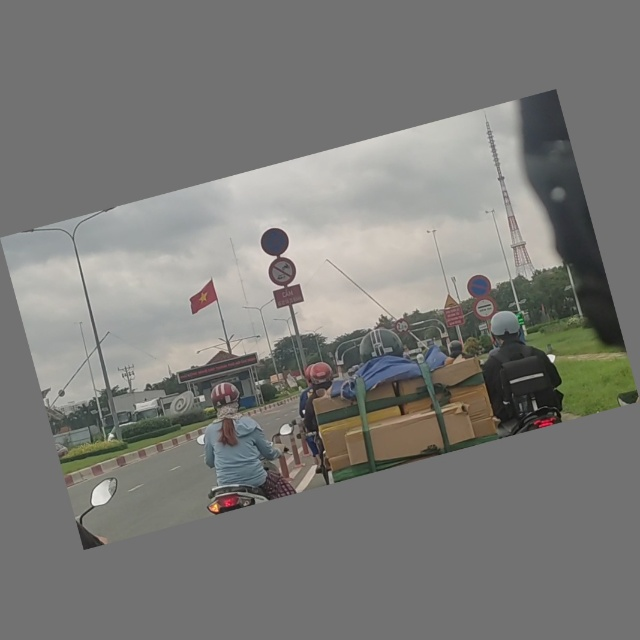P.111: (266, 255, 299, 289)
P.117*: (394, 318, 411, 336)
P.129: (471, 295, 499, 322)
P.130: (259, 226, 291, 259)
P.131a: (464, 273, 493, 301)
W.221b: (442, 293, 459, 310)
